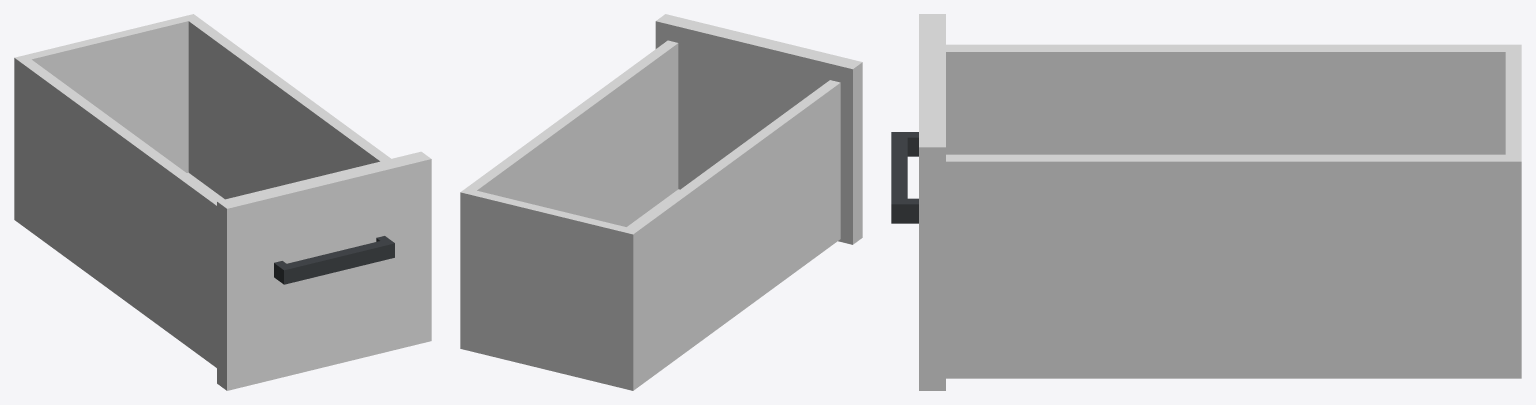
The model's file is Door2_C1_07.fbx.
The picture shows the model from 3 angles, left to right: view 1: azimuth 30°, elevation 25°; view 2: azimuth 150°, elevation 25°; view 3: azimuth 270°, elevation 25°; orthographic projection. The views are drawn at different scales.
Visible parts, largest first — view 1: Door2_C1_07; view 2: Door2_C1_07; view 3: Door2_C1_07.
Part boxes in pixels (<box>): Door2_C1_07: <box>14,14,431,390</box>; Door2_C1_07: <box>460,14,862,390</box>; Door2_C1_07: <box>891,14,1521,390</box>.
Size of the model in its own units: 29 by 24.68 by 57.89.
